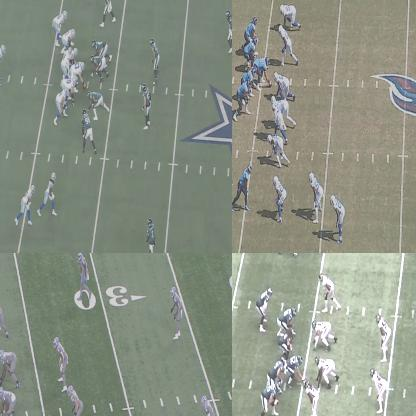CENTER: (256, 55, 270, 88), (286, 354, 302, 382), (74, 58, 86, 84)
DB: (171, 287, 185, 338), (75, 253, 89, 298), (274, 174, 286, 222), (332, 195, 344, 239), (272, 95, 285, 130), (200, 395, 216, 415), (147, 219, 156, 252), (226, 10, 231, 54)
LB: (54, 334, 70, 392), (369, 369, 388, 413), (375, 315, 393, 361), (66, 378, 85, 415), (280, 25, 295, 64), (310, 174, 322, 222), (81, 108, 94, 152), (101, 0, 114, 28), (0, 301, 7, 345), (143, 89, 150, 130), (153, 39, 159, 86)
QB: (60, 48, 72, 77)
SKILL: (256, 287, 272, 331), (17, 187, 33, 225), (238, 163, 251, 207), (42, 175, 56, 215), (54, 11, 66, 44), (0, 44, 6, 83)
